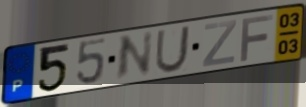5: (36, 41, 73, 94), (75, 36, 108, 88)
F: (238, 12, 276, 63)
N: (114, 29, 155, 84)
U: (153, 24, 193, 75)
Z: (201, 18, 239, 69)
